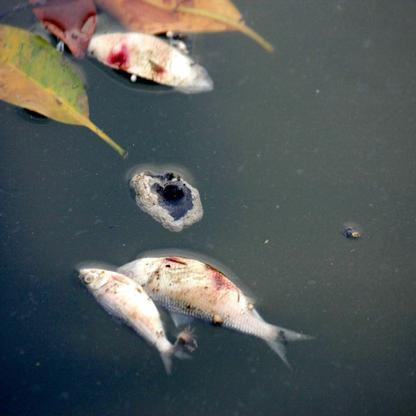deceased fish: (118, 250, 316, 372), (74, 265, 193, 373), (89, 32, 213, 95)
